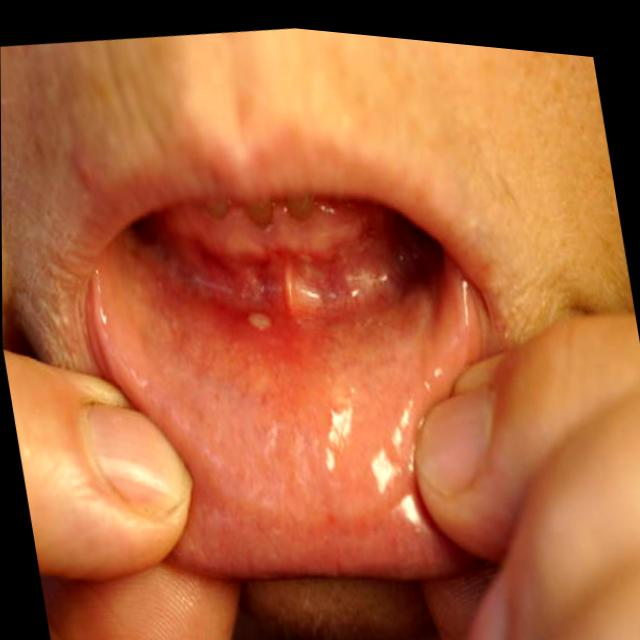ulcer: (237, 299, 275, 340)
